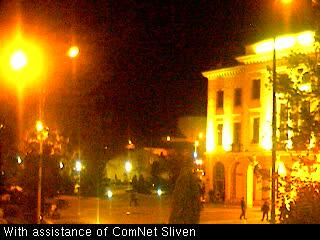person: (238, 195, 247, 219), (260, 200, 270, 221), (128, 190, 140, 206), (199, 191, 207, 210), (208, 188, 216, 204)
